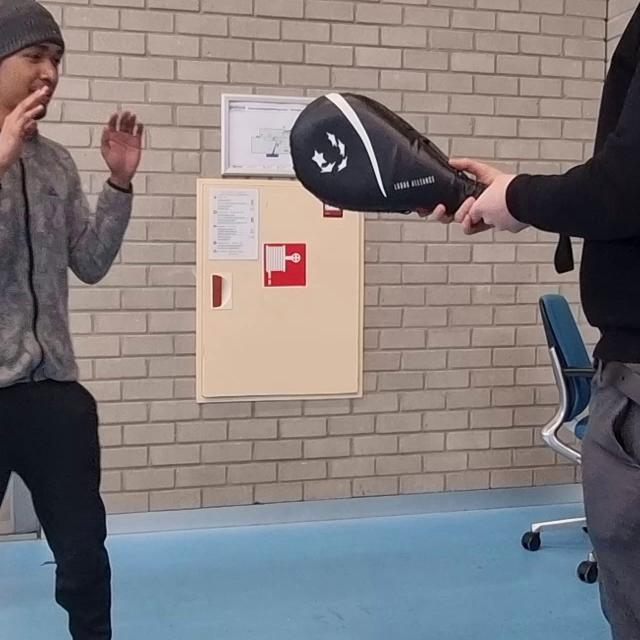paddle: (288, 93, 473, 213)
